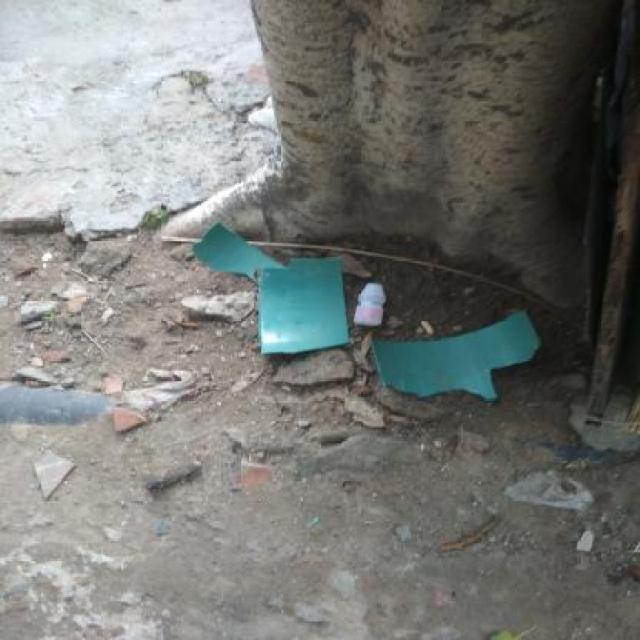garbage: (137, 219, 571, 424)
